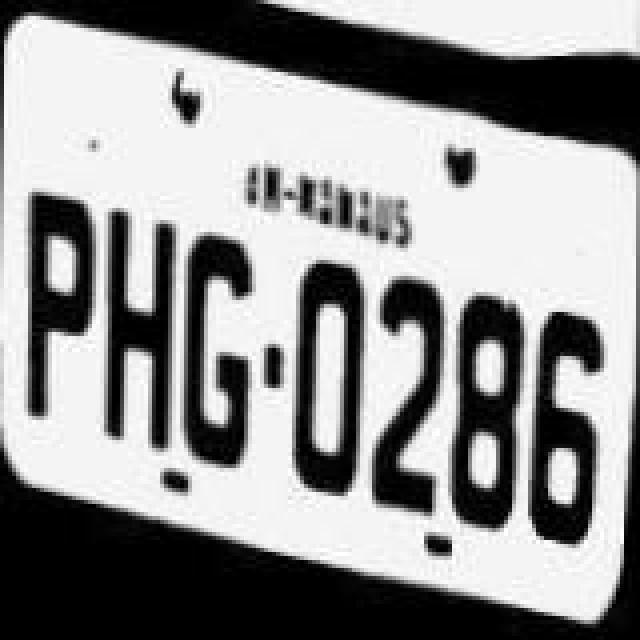2: (374, 274, 450, 522)
6: (524, 314, 612, 546)
8: (444, 292, 524, 540)
G: (180, 236, 256, 476)
H: (100, 212, 184, 448)
O: (292, 258, 372, 494)
P: (16, 196, 100, 420)
